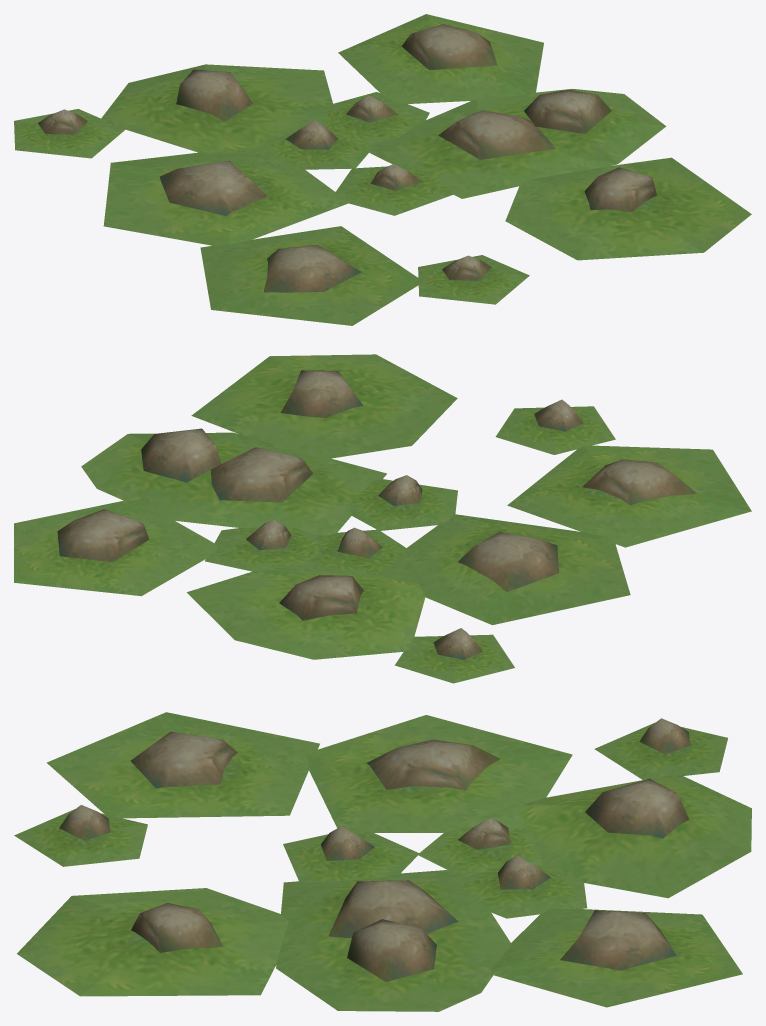
File: SoilGradeA02_4Grid_03.FBX
3 views of the same model, one above another, from view 1: azimuth 30°, elevation 25°; view 2: azimuth 150°, elevation 25°; view 3: azimuth 270°, elevation 25° (orthographic). The views are drawn at different scales.
Parts seen in each view (by area): view 1: SoilGradeA02_4Grid_03; view 2: SoilGradeA02_4Grid_03; view 3: SoilGradeA02_4Grid_03.
Part boxes in pixels (x1=…): SoilGradeA02_4Grid_03: x1=14, y1=14, x2=751, y2=325; SoilGradeA02_4Grid_03: x1=14, y1=354, x2=751, y2=683; SoilGradeA02_4Grid_03: x1=14, y1=712, x2=751, y2=1011.
Bounding box in the file's own units: 6.24 × 0.3984 × 6.49.
